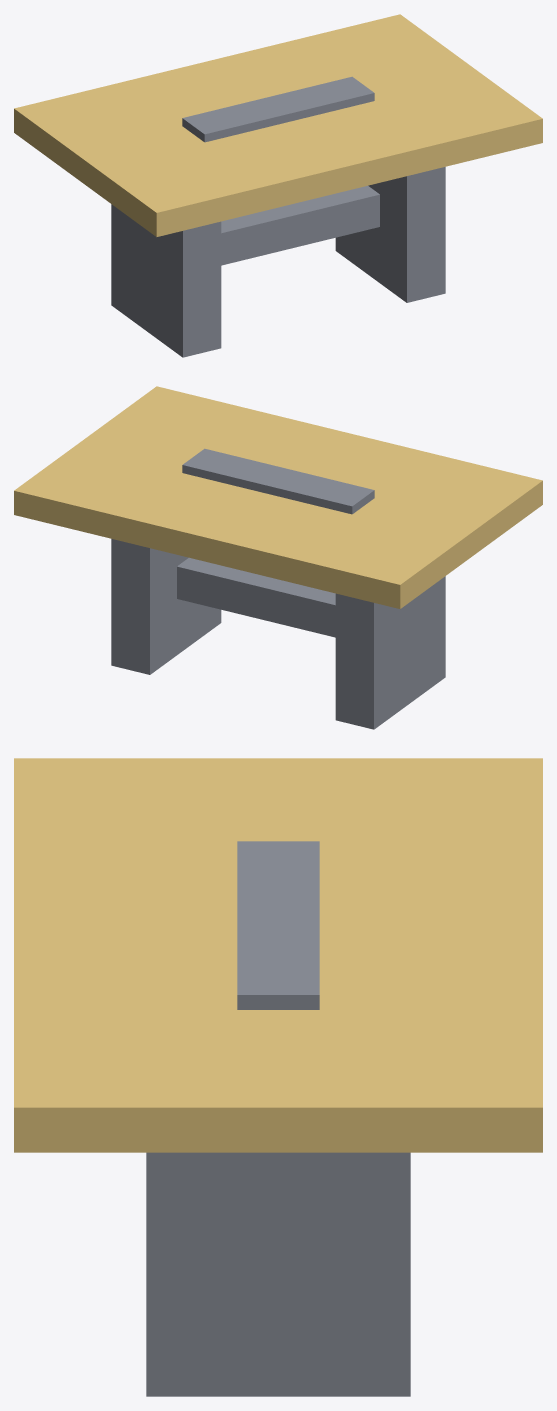
The model's file is tableConference.glb.
3 views of the same model, one above another, from view 1: azimuth 30°, elevation 25°; view 2: azimuth 150°, elevation 25°; view 3: azimuth 270°, elevation 25° (orthographic). The views are drawn at different scales.
Visible parts, largest first — view 1: tableConference; view 2: tableConference; view 3: tableConference.
Part boxes in pixels (x1,y1,x2,y2): tableConference: [14, 14, 542, 357]; tableConference: [14, 386, 542, 729]; tableConference: [14, 758, 542, 1396].
Bounding box in the file's own units: 1 × 0.48 × 0.64.
